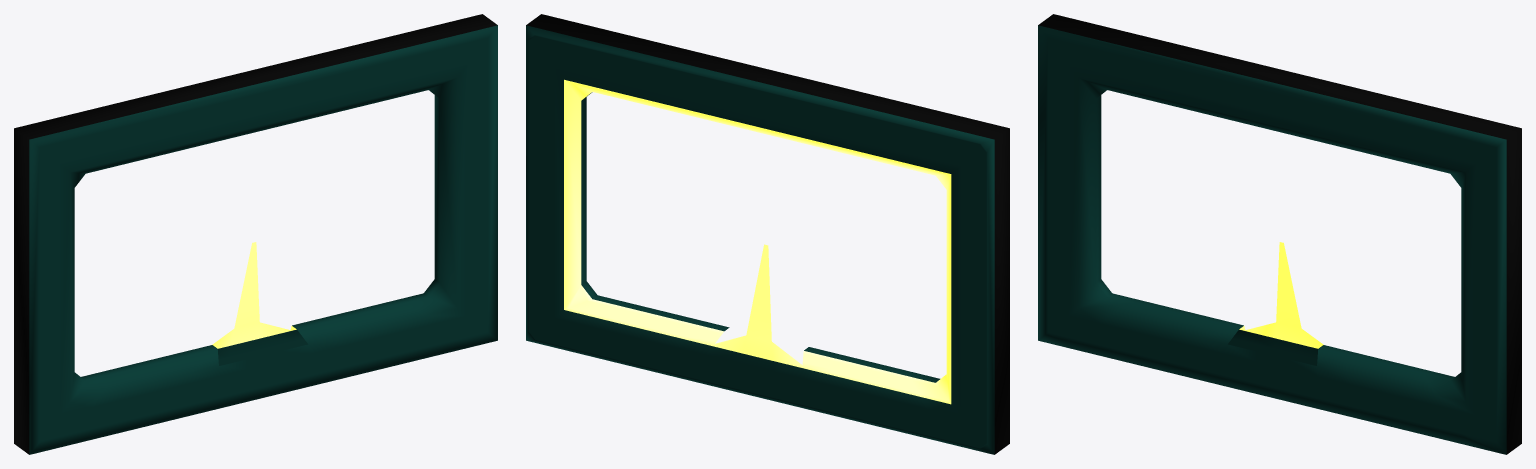
The picture shows the model from 3 angles, left to right: view 1: azimuth 30°, elevation 25°; view 2: azimuth 150°, elevation 25°; view 3: azimuth 330°, elevation 25°; orthographic projection.
Visible parts, largest first — view 1: Plane; view 2: Plane; view 3: Plane.
Part boxes in pixels (x1=…): Plane: x1=14, y1=14, x2=497, y2=454; Plane: x1=526, y1=14, x2=1009, y2=454; Plane: x1=1038, y1=14, x2=1521, y2=454.
Bounding box in the file's own units: 311 × 200 × 20.73.
